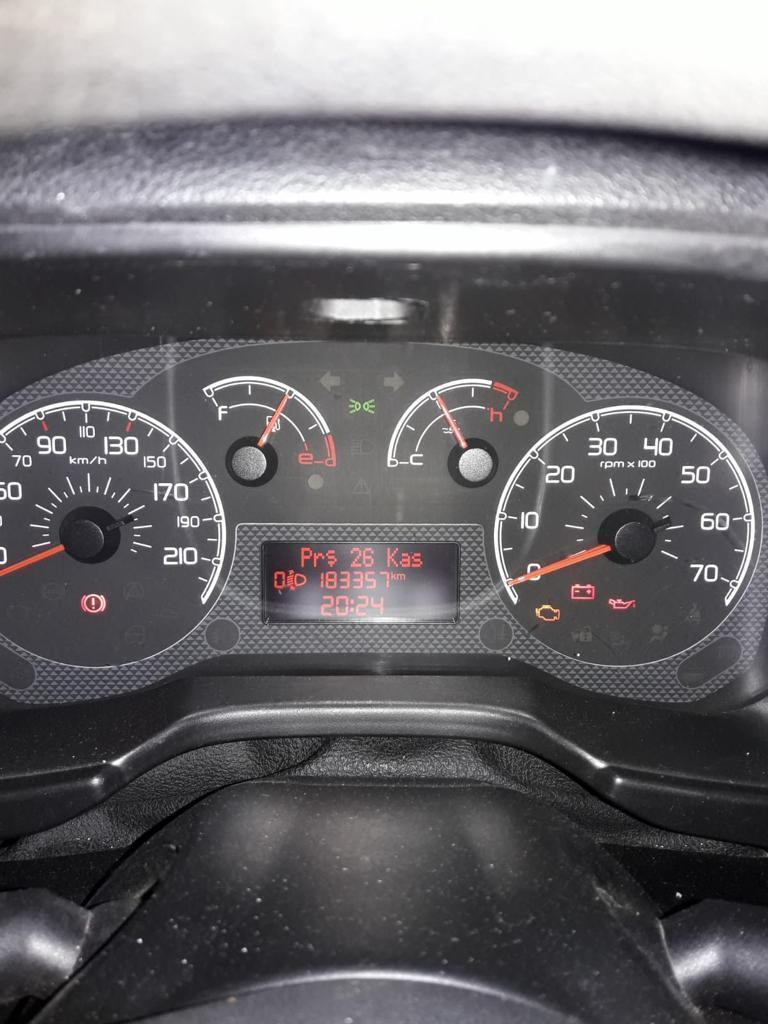0: (335, 595, 349, 615), (273, 571, 285, 588)
1: (319, 572, 324, 588)
2: (319, 595, 334, 616), (355, 595, 368, 615), (349, 547, 361, 567)
3: (338, 571, 350, 589), (352, 570, 363, 588)
4: (370, 595, 384, 615)
5: (364, 570, 376, 588)
6: (362, 547, 374, 567)
7: (379, 570, 389, 588)
8: (325, 571, 336, 588)
X: (300, 547, 312, 568), (386, 547, 398, 567), (325, 549, 337, 567), (312, 551, 324, 567), (399, 552, 410, 567), (411, 552, 422, 567), (349, 598, 355, 612), (396, 573, 405, 580), (390, 571, 396, 580)
odometer: (260, 539, 461, 625)
